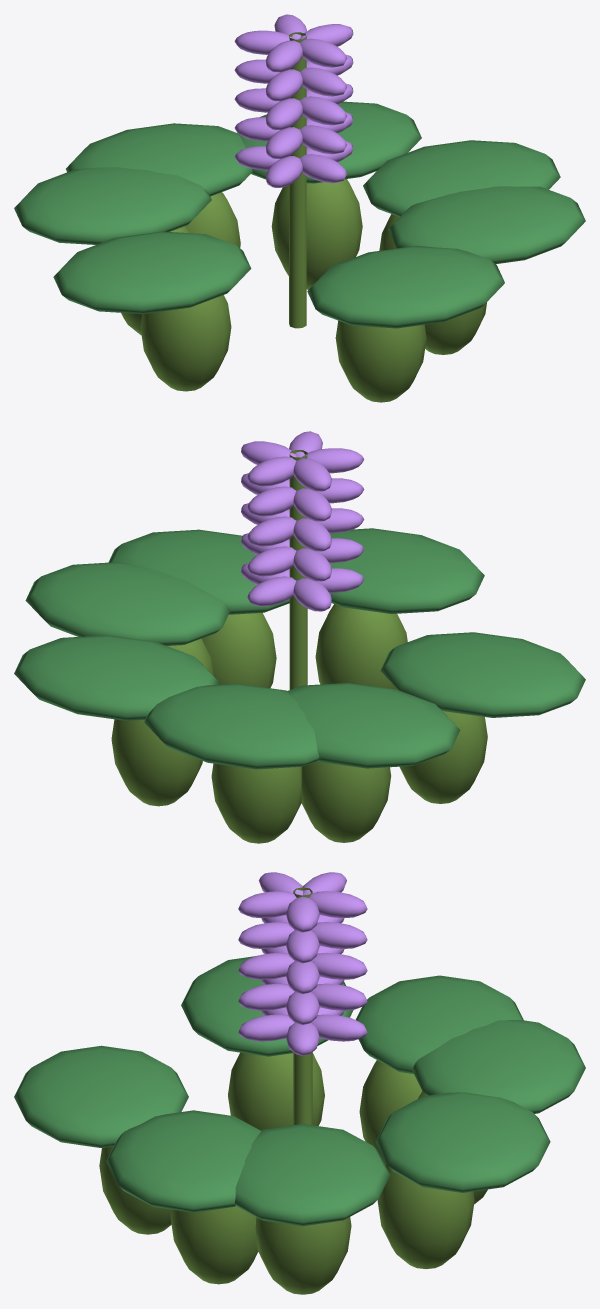
File: water-hyacinth.glb
3 views of the same model, one above another, from view 1: azimuth 30°, elevation 25°; view 2: azimuth 150°, elevation 25°; view 3: azimuth 270°, elevation 25° (orthographic). The views are drawn at different scales.
Visible parts, largest first — view 1: water-hyacinth; view 2: water-hyacinth; view 3: water-hyacinth.
Boxes of the visible parts, <box> form: water-hyacinth: <box>14,14,585,402</box>; water-hyacinth: <box>14,431,585,843</box>; water-hyacinth: <box>14,872,585,1294</box>.
Bounding box in the file's own units: 1.29 × 0.765 × 1.18.
